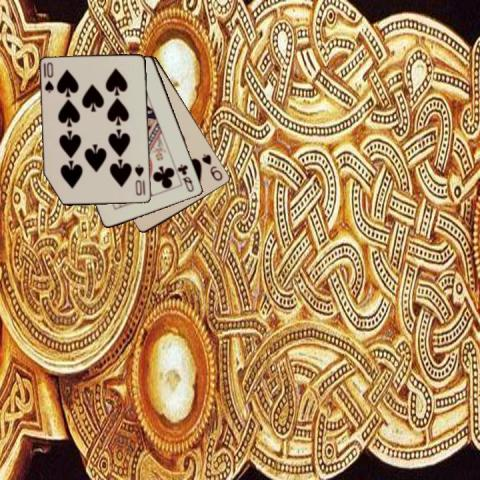10s: (132, 162, 145, 197), (42, 59, 55, 94)
9s: (198, 150, 224, 182)
Qc: (176, 162, 196, 194)
